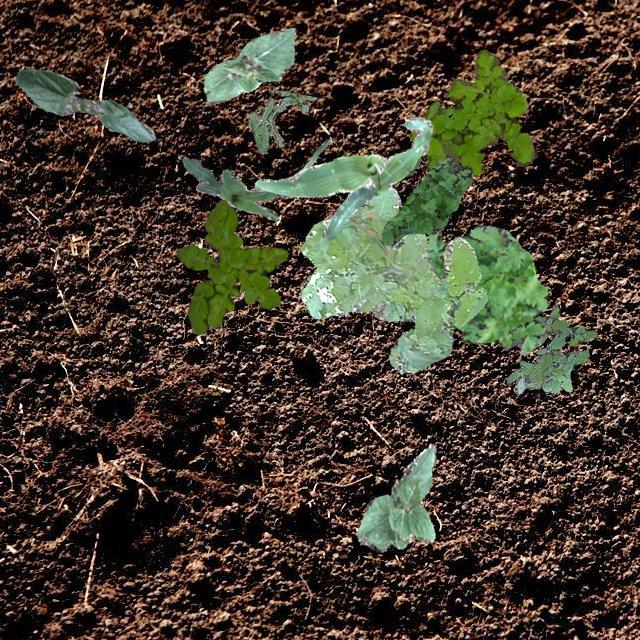crop: (253, 116, 432, 240), (180, 136, 330, 220), (14, 67, 154, 142), (356, 444, 436, 552), (202, 27, 294, 102)
weed: (299, 186, 486, 372), (409, 48, 534, 175), (427, 224, 548, 354), (176, 198, 286, 334), (380, 156, 470, 245), (506, 304, 596, 392), (248, 90, 316, 154)
